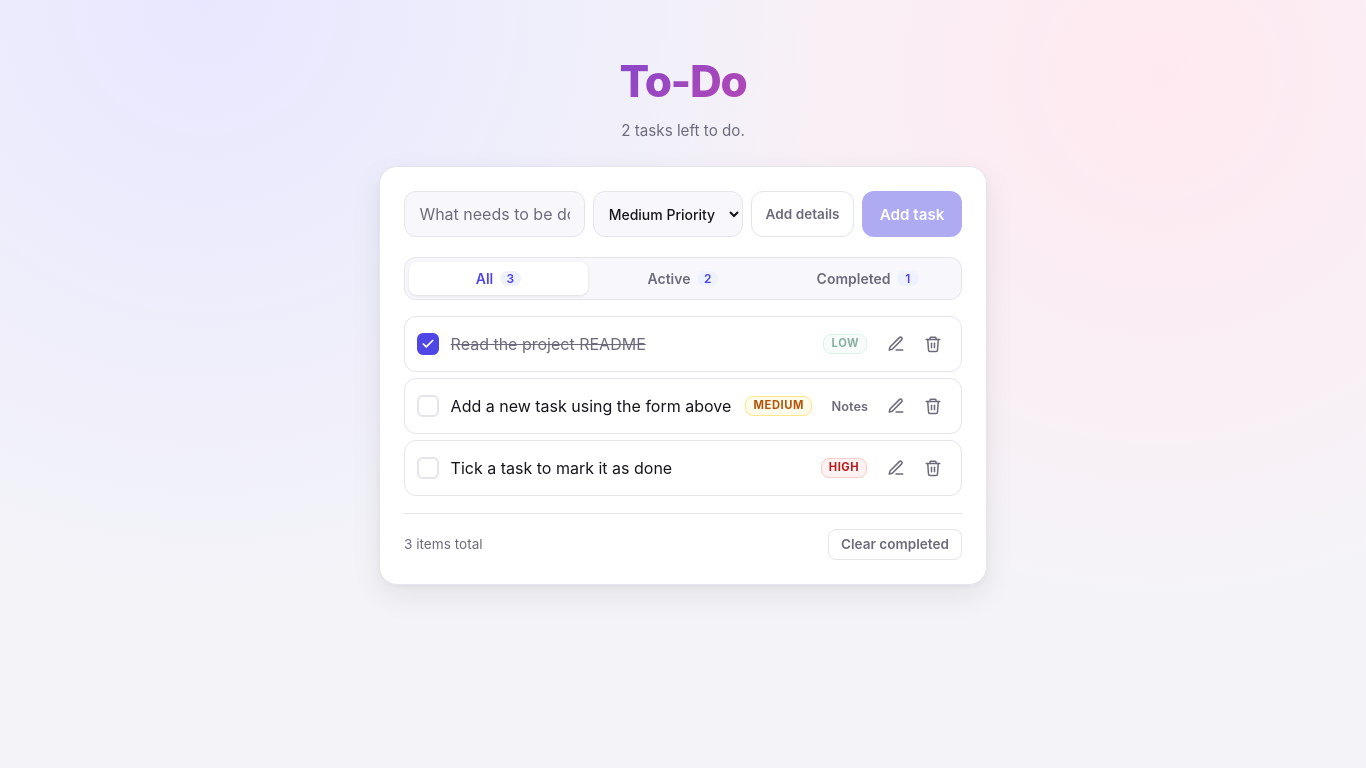
Scenario: To-do app › restores a deleted task when clicking Undo
The width and height of the screenshot is (1366, 768).
What coordinates should you click on to do the following:
click the button named "Delete task: Read the project README"
I would click on:
 (933, 344)
Its box is x1=916 y1=328 x2=949 y2=361.
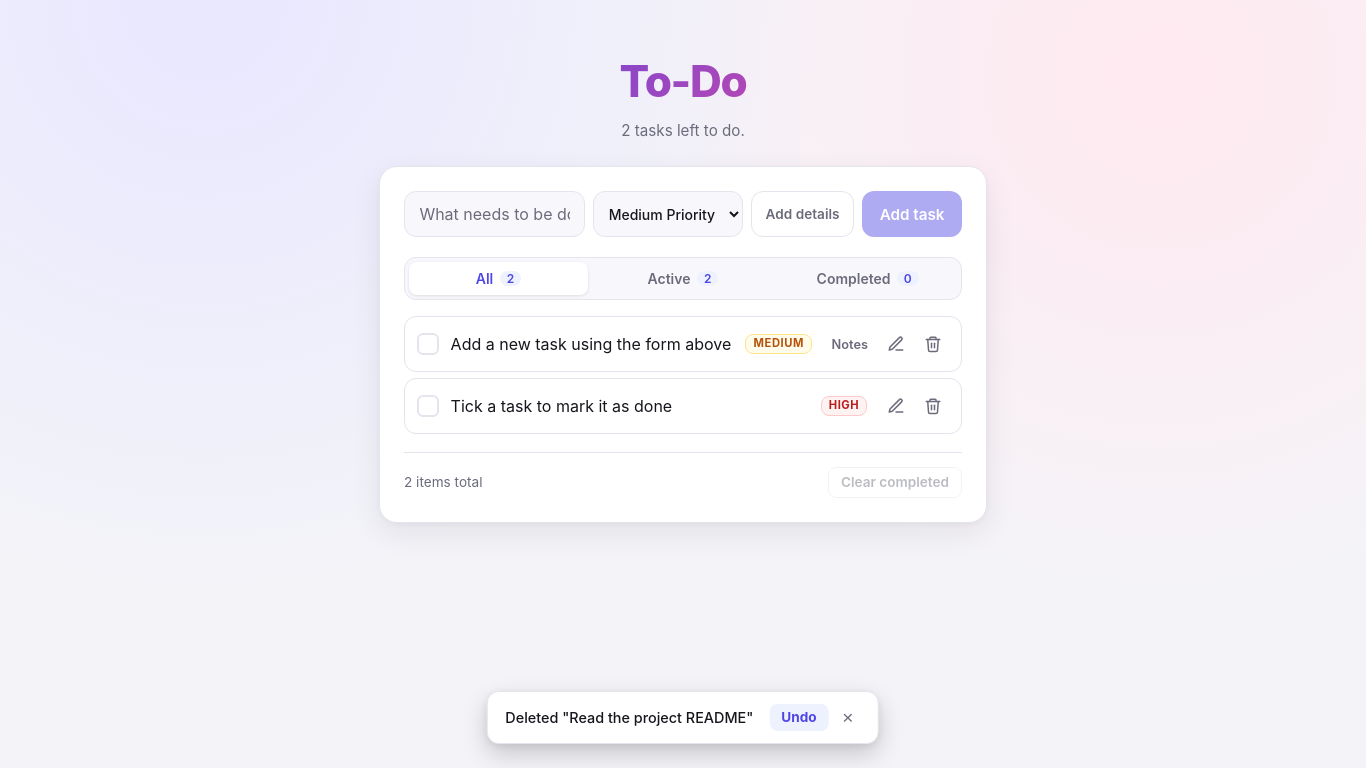
What coordinates should you click on to do the following:
click the button "Undo"
I would click on:
 (799, 717)
Its box is x1=769 y1=704 x2=829 y2=731.
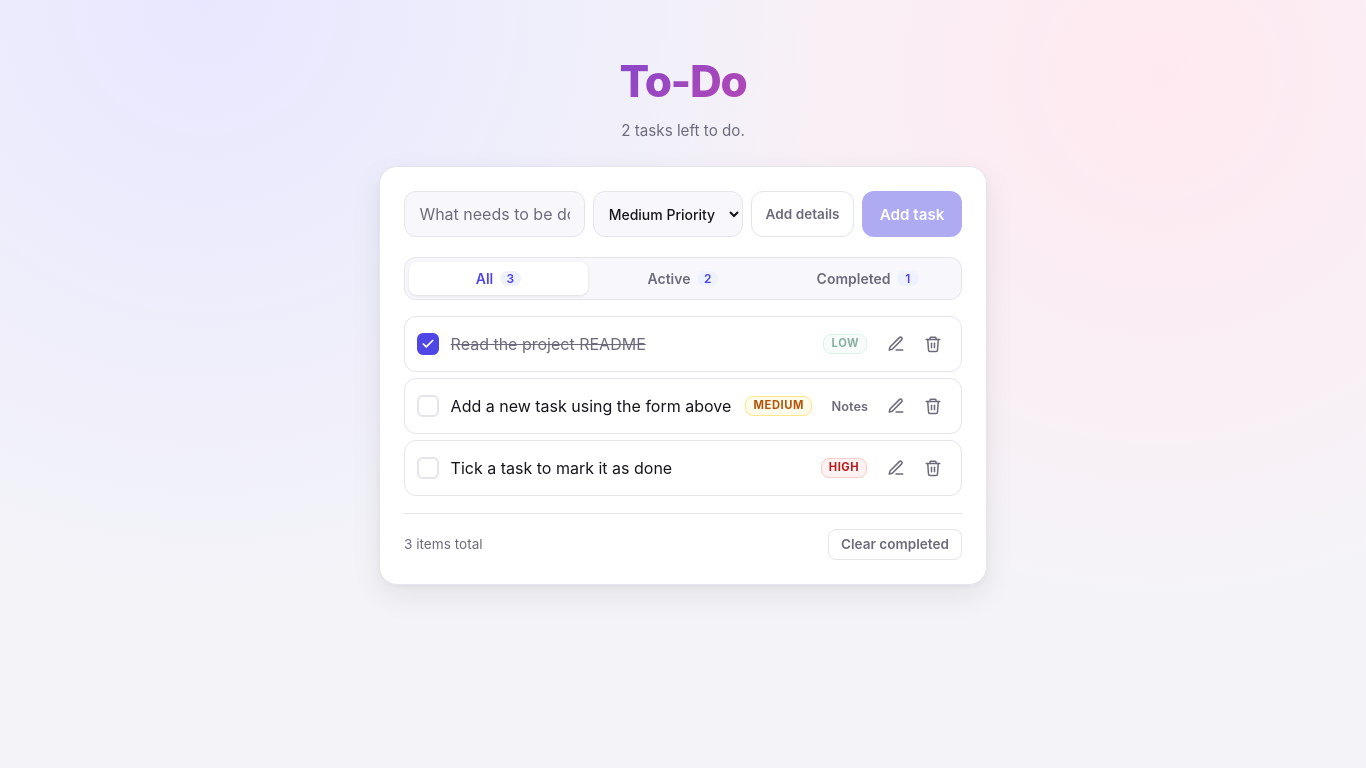
Expected: the text "Read the project README" is shown, x1=451 y1=334 x2=646 y2=354
Expected: the text "3 items total" is shown, x1=404 y1=534 x2=483 y2=554
Expected: the message "Deleted \"Read the project README\" Undo ×" is gone
